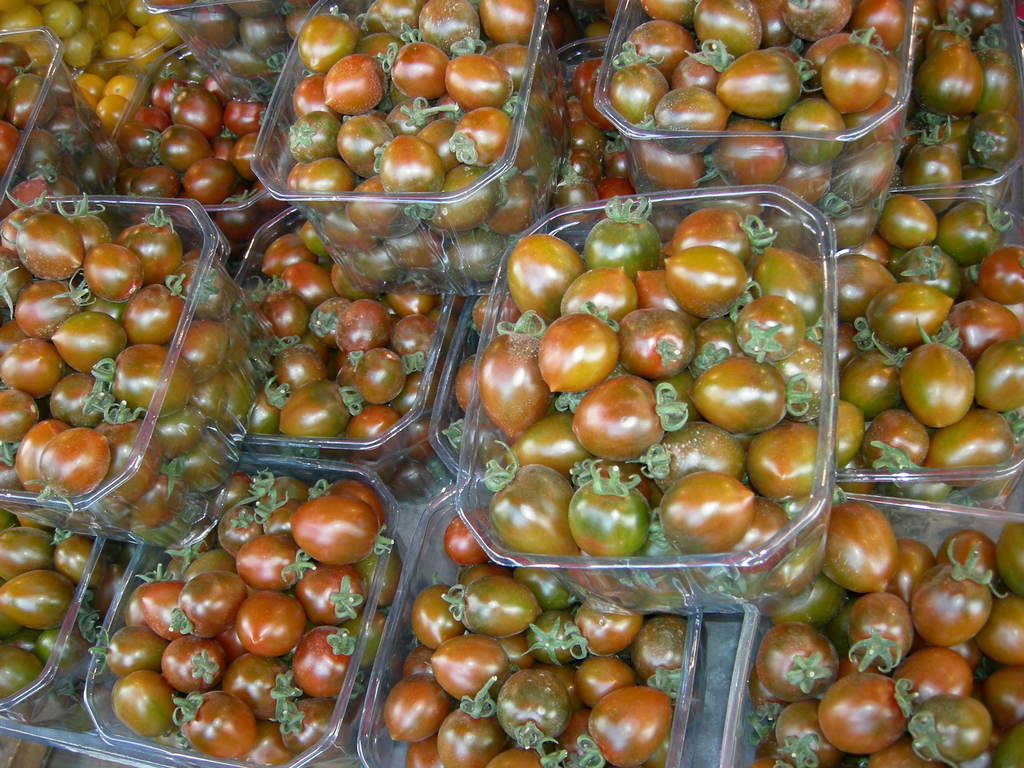Tomato: (0, 0, 1023, 767), (837, 682, 919, 760)
